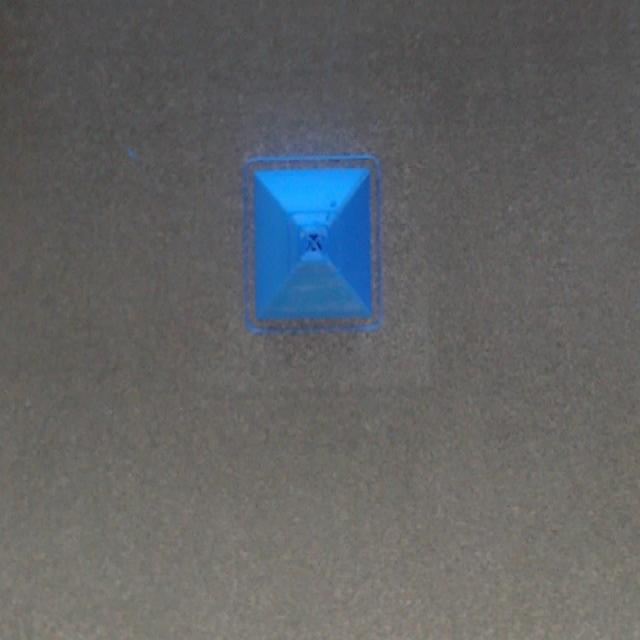mistake: (301, 228, 330, 261)
